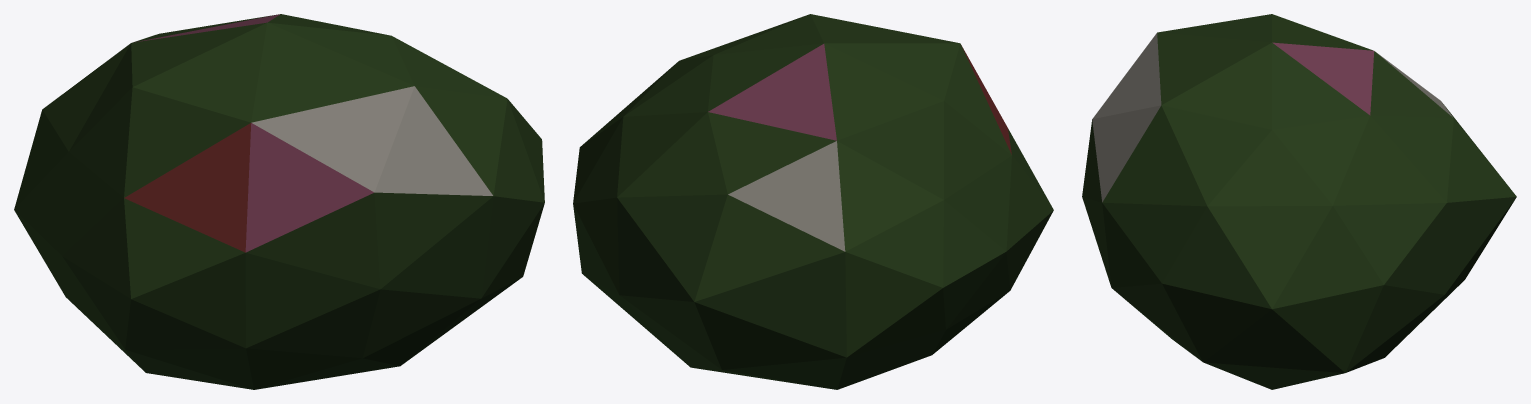
The model's file is 1929-Street-trees-and-bushes-bushFlowering.glb.
3 views of the same model, side by side, from view 1: azimuth 30°, elevation 25°; view 2: azimuth 150°, elevation 25°; view 3: azimuth 270°, elevation 25° (orthographic). The views are drawn at different scales.
Parts seen in each view (by area): view 1: Street trees and bushes/bushFlowering; view 2: Street trees and bushes/bushFlowering; view 3: Street trees and bushes/bushFlowering.
Boxes of the visible parts, bbox=[...] form: Street trees and bushes/bushFlowering: bbox=[14, 14, 544, 389]; Street trees and bushes/bushFlowering: bbox=[573, 14, 1053, 389]; Street trees and bushes/bushFlowering: bbox=[1082, 14, 1516, 389].
Size of the model in its own units: 0.6773 by 0.4652 by 0.6338.
